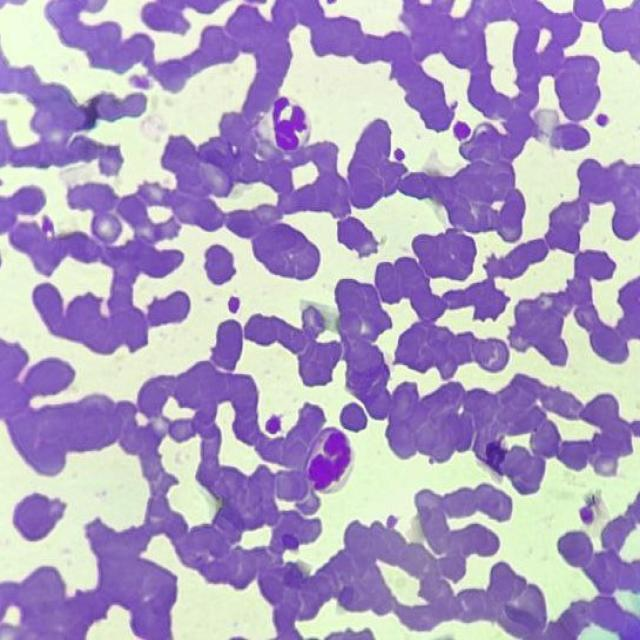Neutrofilo: (301, 422, 358, 495), (265, 93, 314, 153)
